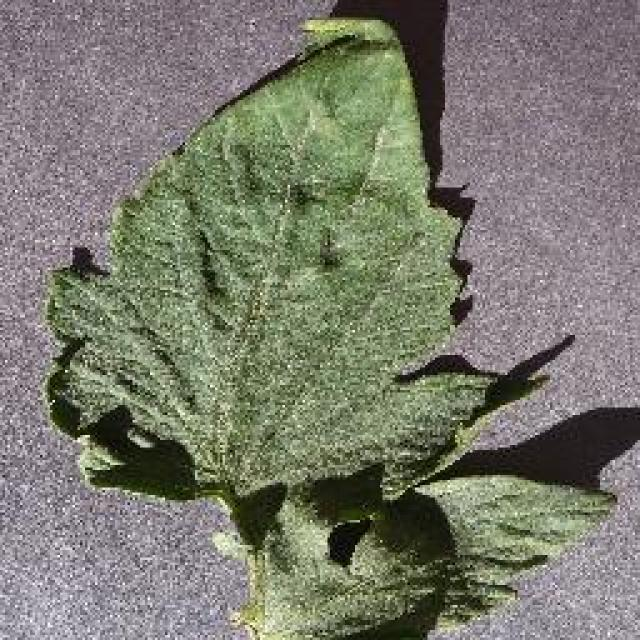Tomato___healthy: (47, 15, 630, 638)
